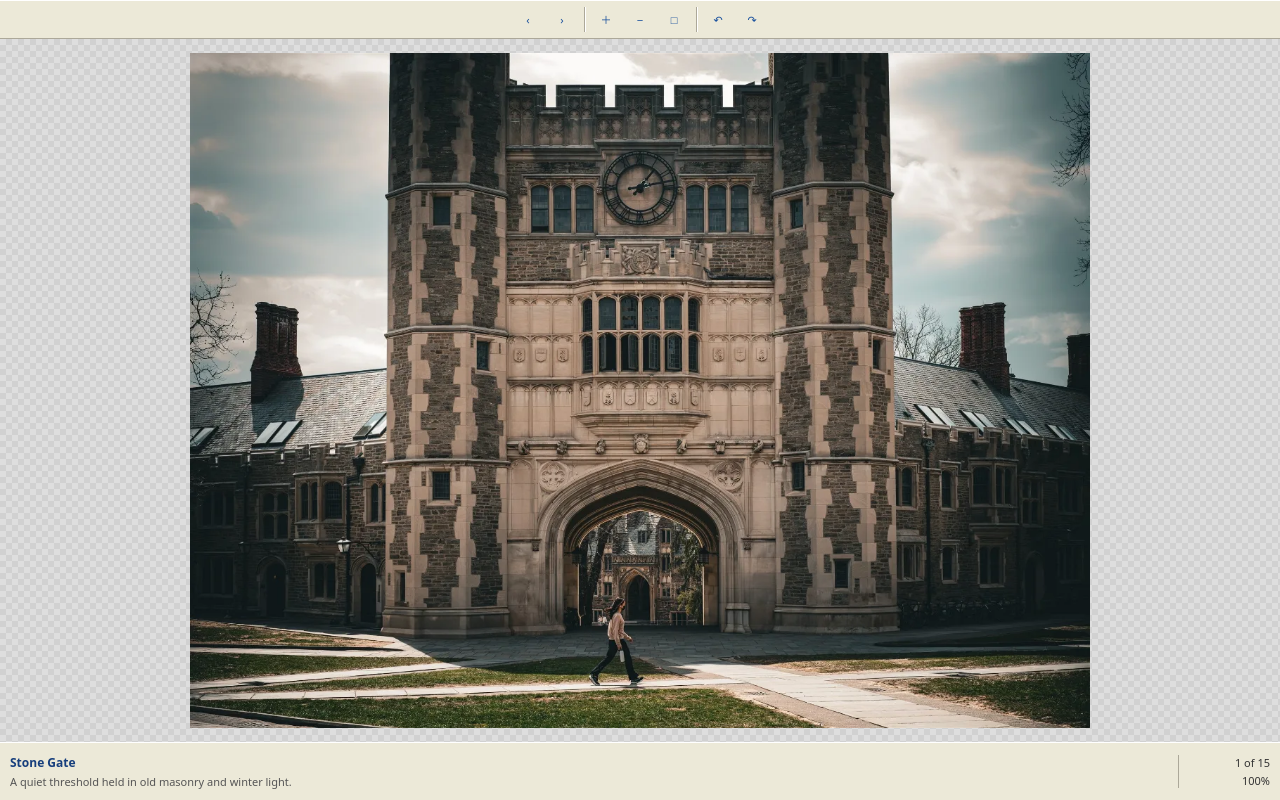
Test: PictureViewer › keeps wrapped navigation local to the viewer
The width and height of the screenshot is (1280, 800).
Check: the heading "Stone Gate" is shown, box x1=10 y1=754 x2=76 y2=771
Check: the text "1 of 15" is shown, box x1=1235 y1=755 x2=1270 y2=770
Press Arrowright
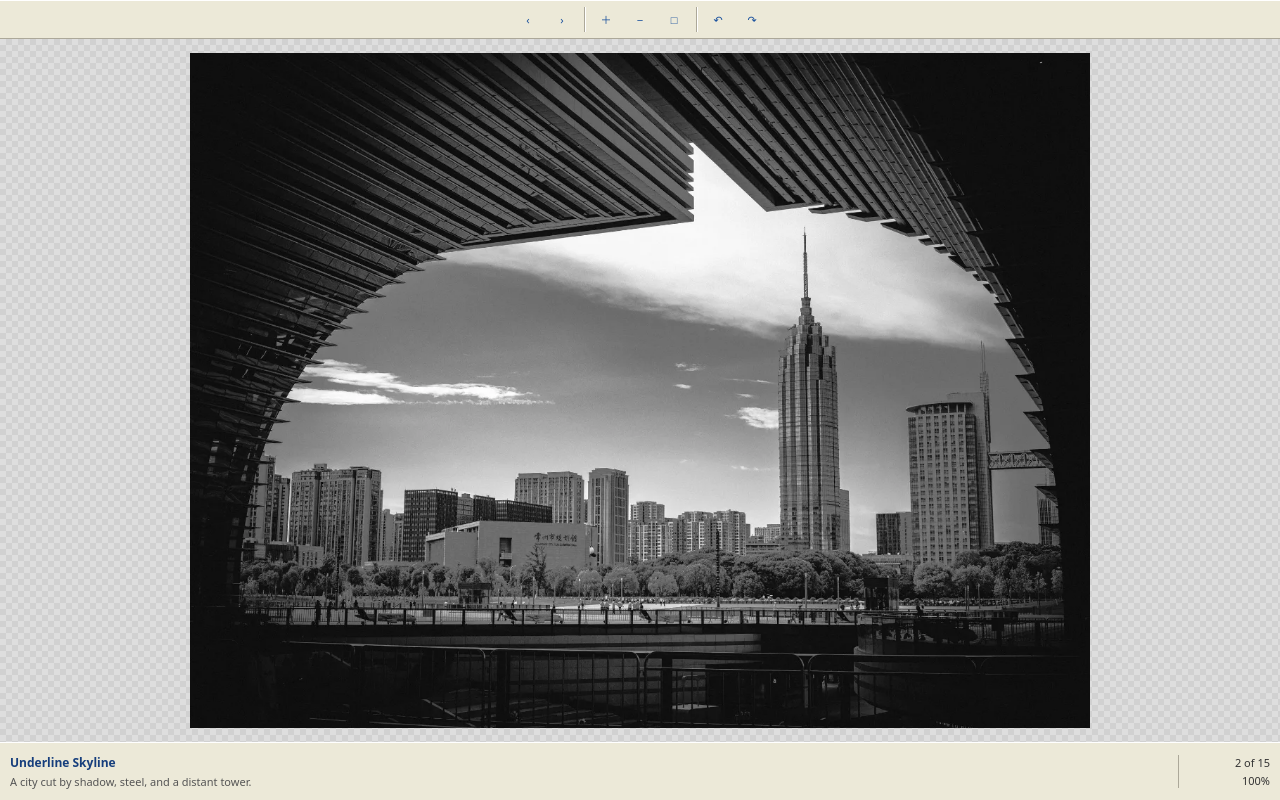
Check: the heading "Underline Skyline" is shown, box x1=10 y1=754 x2=116 y2=771
Check: the text "2 of 15" is shown, box x1=1235 y1=755 x2=1270 y2=770
Click the button named "Previous photo" at (528, 19), box x1=512 y1=4 x2=544 y2=34
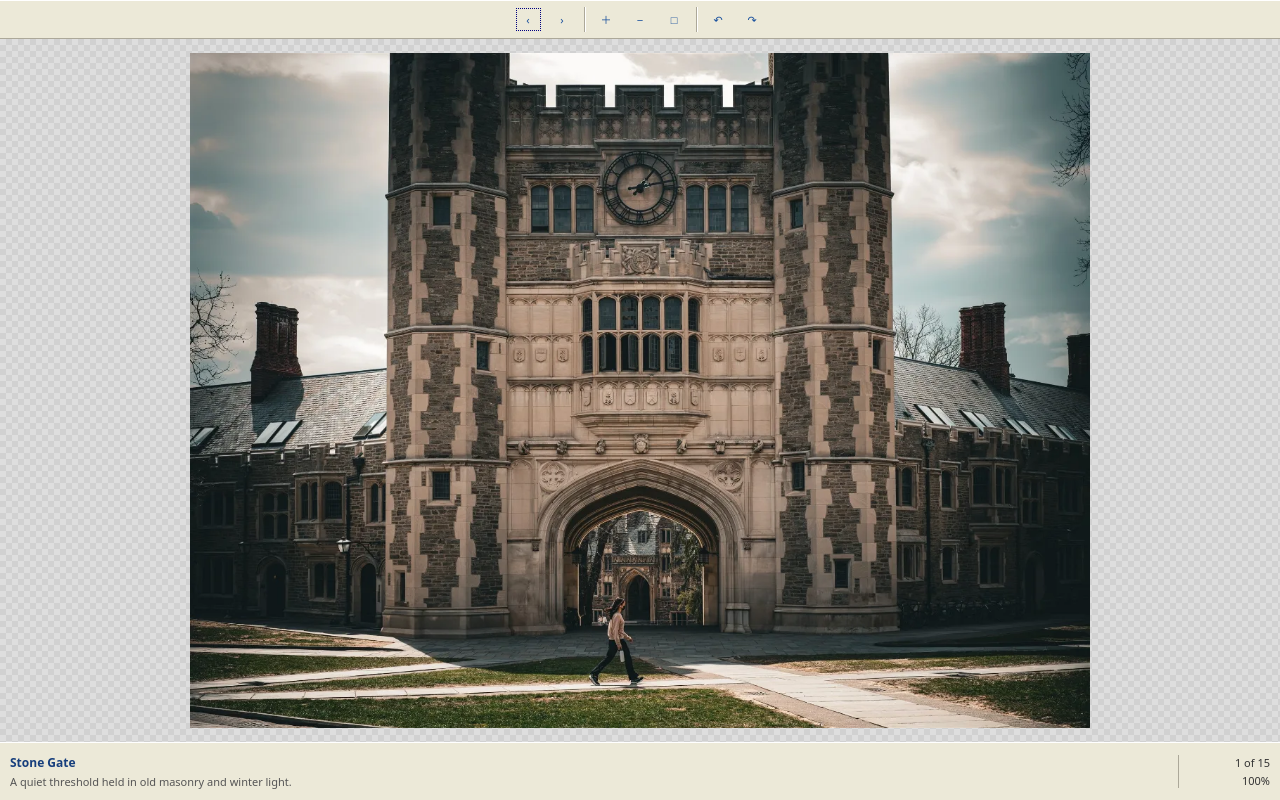
Click the button named "Previous photo" at (528, 19), box x1=512 y1=4 x2=544 y2=34
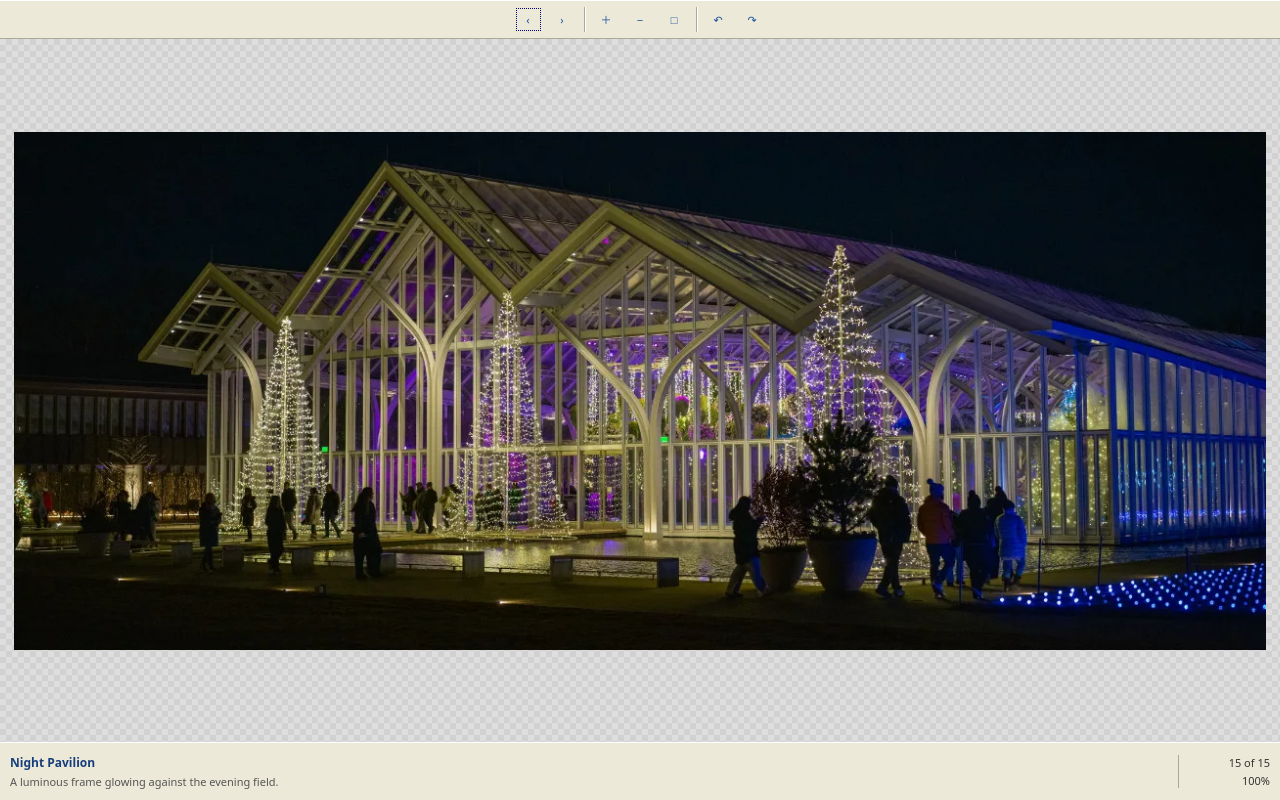
Check: the heading "Night Pavilion" is shown, box x1=10 y1=754 x2=95 y2=771
Check: the text "15 of 15" is shown, box x1=1229 y1=755 x2=1270 y2=770
